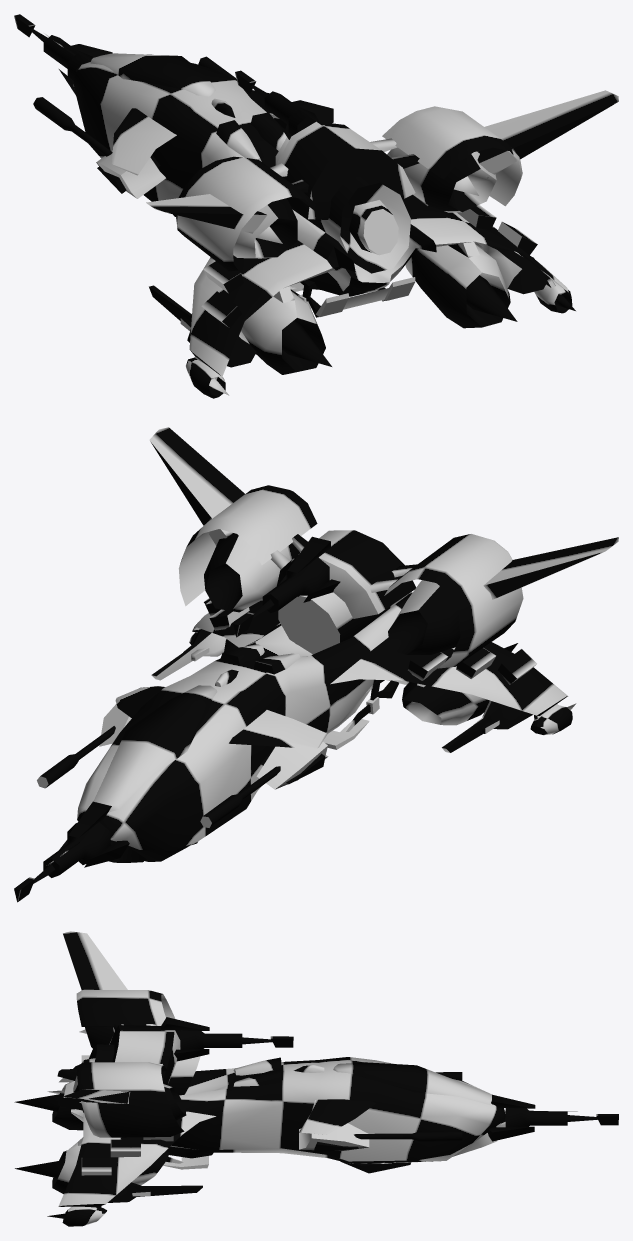
File: nostromo_ambassador.obj
3 renders of one model, top to bottom at view 1: azimuth 30°, elevation 25°; view 2: azimuth 150°, elevation 25°; view 3: azimuth 270°, elevation 25°, orthographic. The views are drawn at different scales.
Visible parts, largest first — view 1: main; view 2: main; view 3: main.
Boxes of the visible parts, x1,y1,x2,y2 form: main: (14,14,618,398); main: (14,427,618,902); main: (14,931,618,1226).
Bounding box in the file's own units: 83.07 × 36.03 × 127.
1 material, 1 textured.
